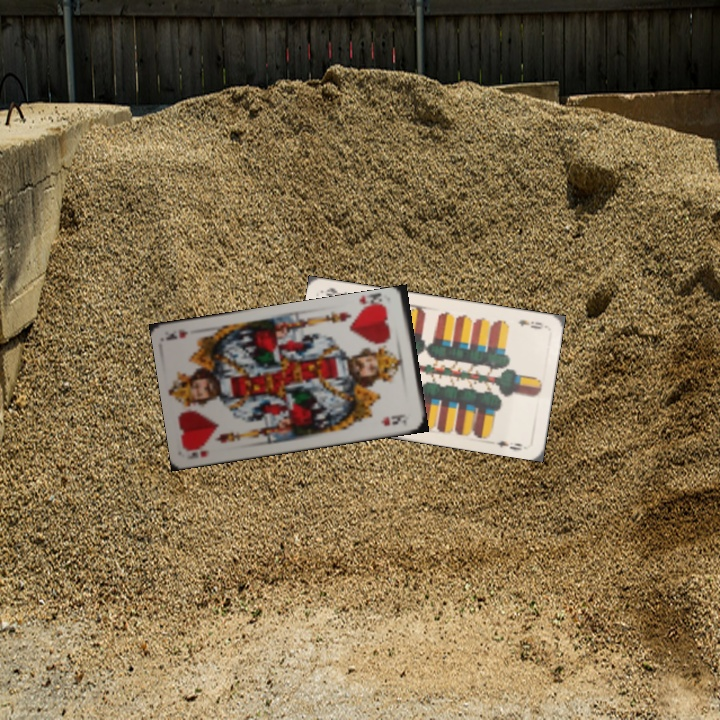E9: (514, 315, 546, 332)
HK: (353, 292, 389, 315), (184, 446, 212, 462)
